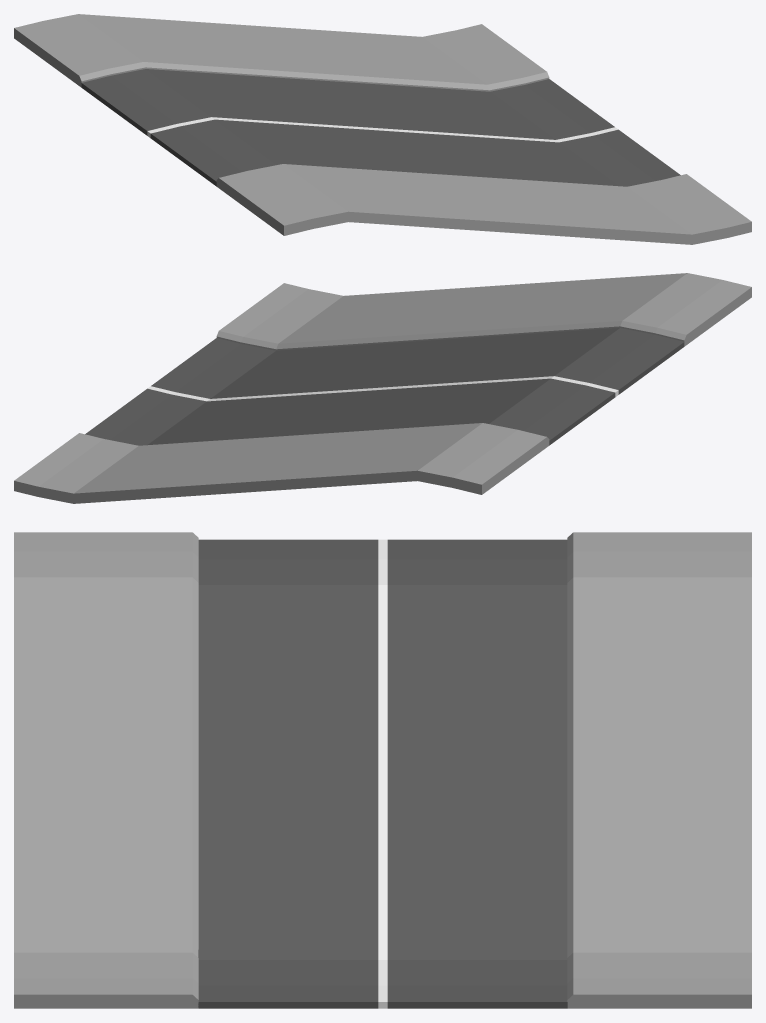
The model's file is roadSlopeTall.fbx.
3 views of the same model, one above another, from view 1: azimuth 30°, elevation 25°; view 2: azimuth 150°, elevation 25°; view 3: azimuth 270°, elevation 25° (orthographic). The views are drawn at different scales.
Parts seen in each view (by area): view 1: RoadSlopeTall; view 2: RoadSlopeTall; view 3: RoadSlopeTall.
Boxes of the visible parts, x1,y1,x2,y2 form: RoadSlopeTall: [14, 14, 751, 244]; RoadSlopeTall: [14, 273, 751, 503]; RoadSlopeTall: [14, 532, 751, 1008].
Bounding box in the file's own units: 2000 × 492 × 2000.
